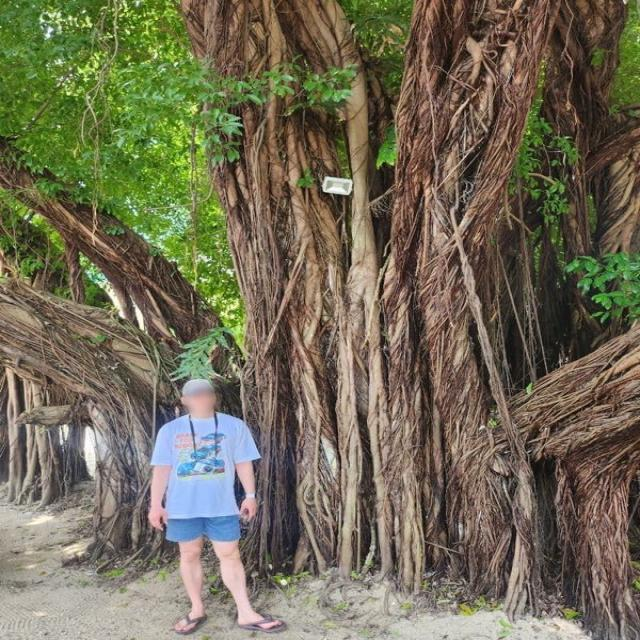shortpants: (164, 512, 244, 546)
shortsleeve: (149, 408, 256, 522)
